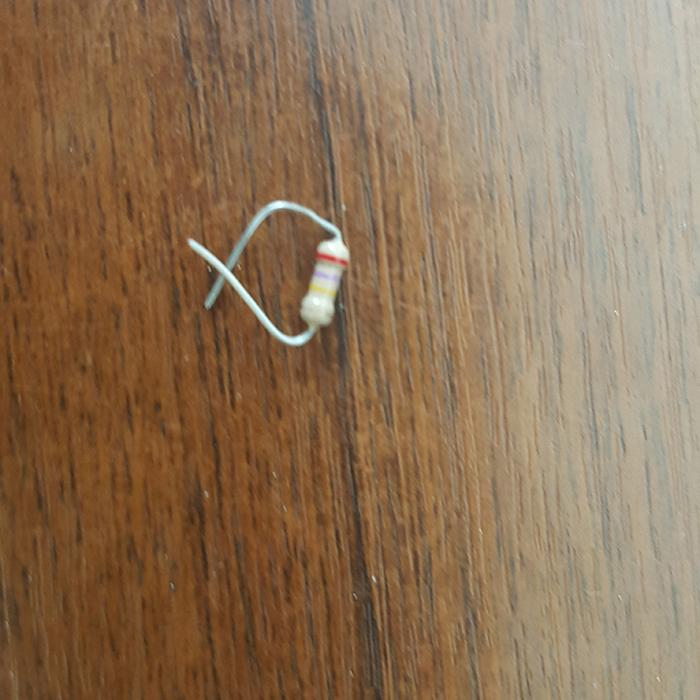resistor: (298, 237, 349, 329)
